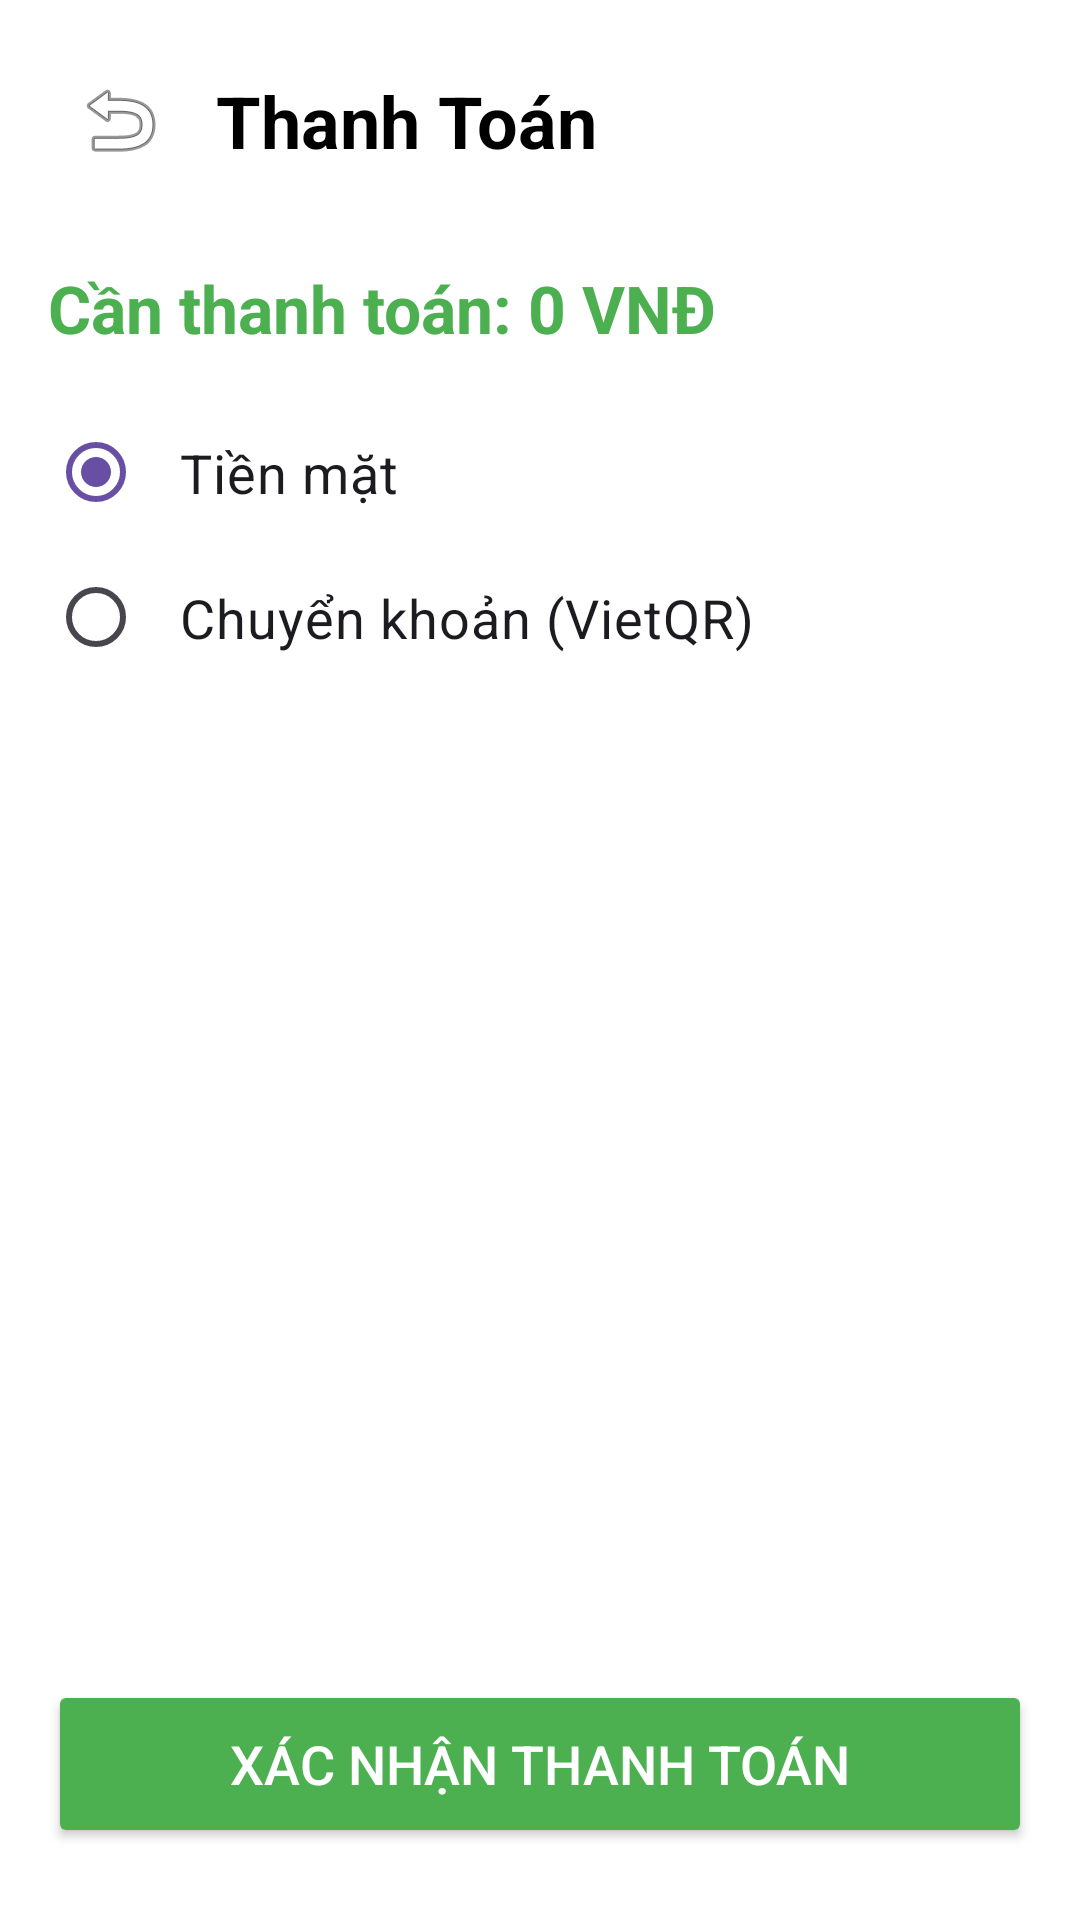

Named icons in this screenshot (1080 x 1920) and their bounding boxes, BBox(x1, y1, x2, y2):
Quay lại: BBox(87, 89, 156, 152)
